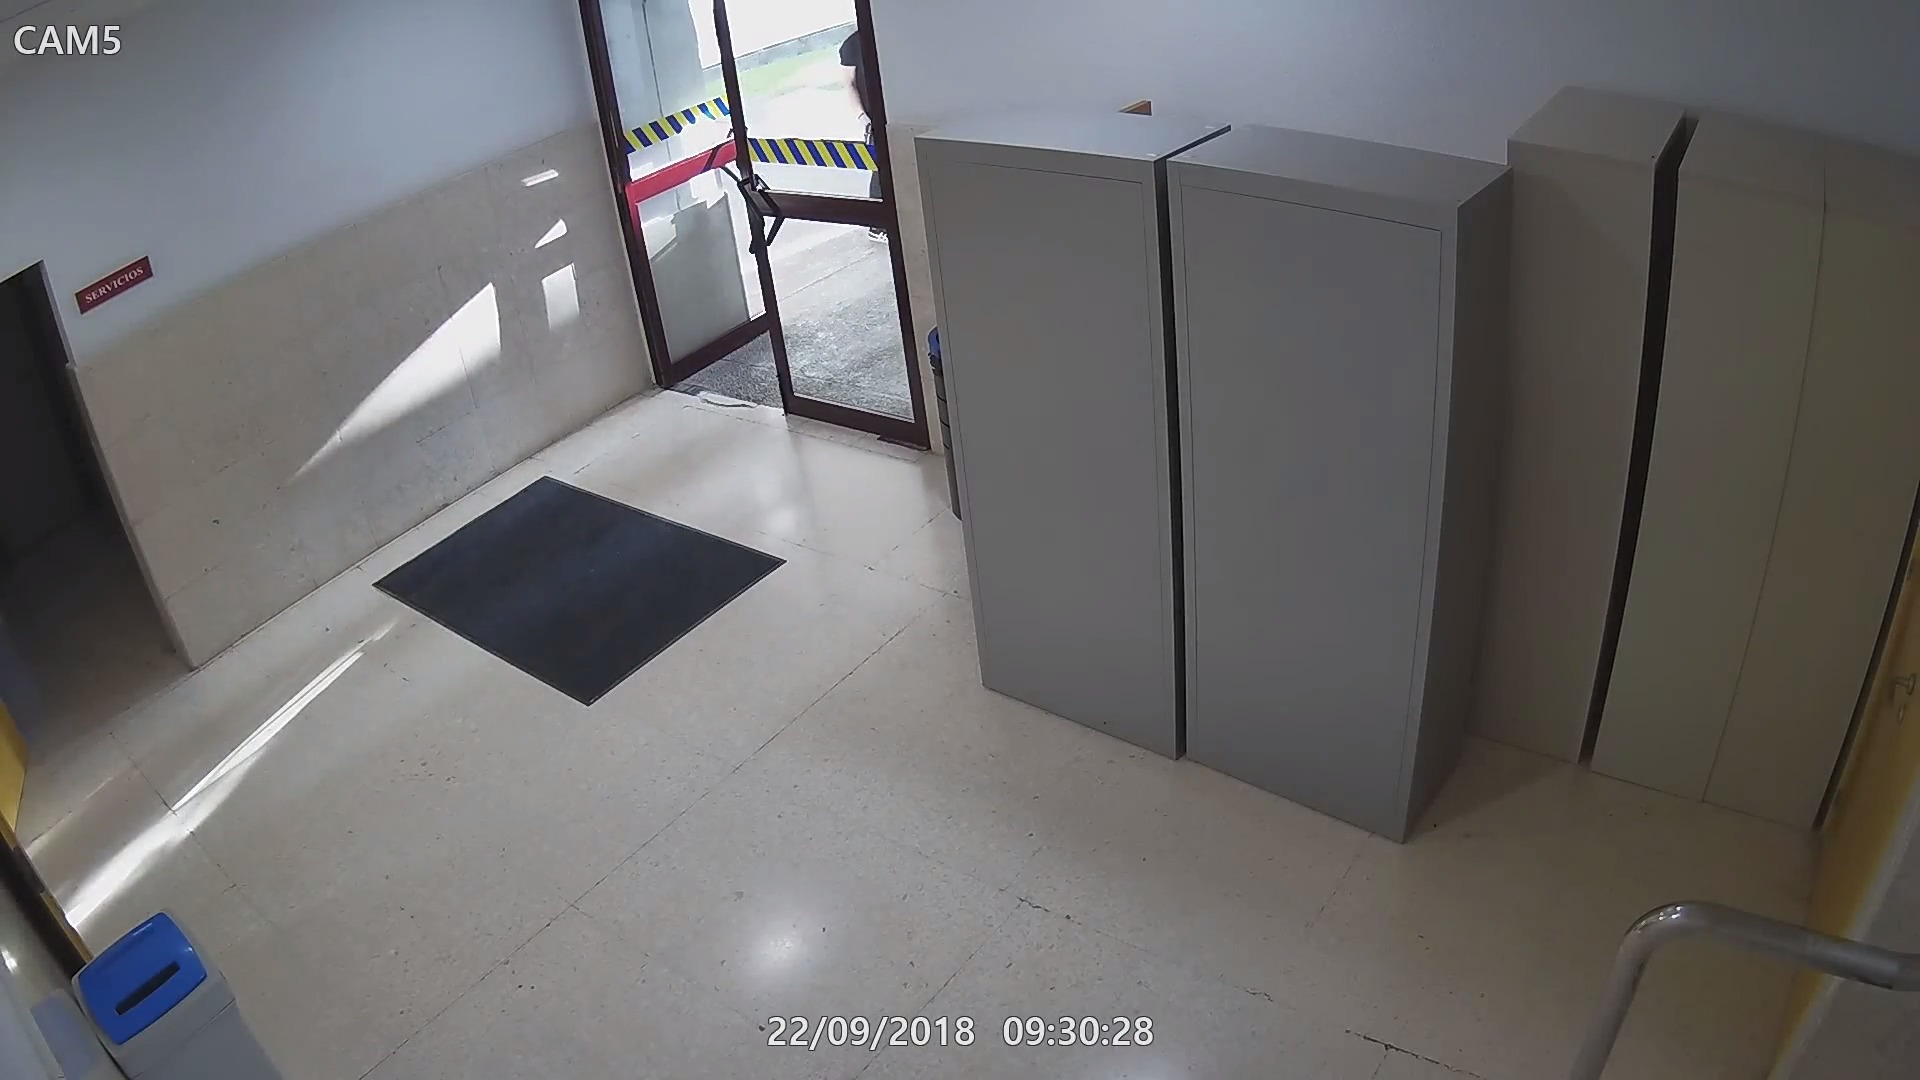Handgun: (857, 113, 874, 141)
